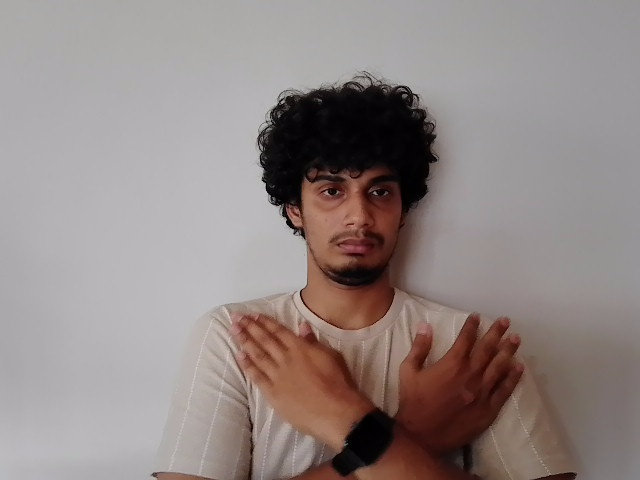relaxing: (234, 311, 522, 431)
